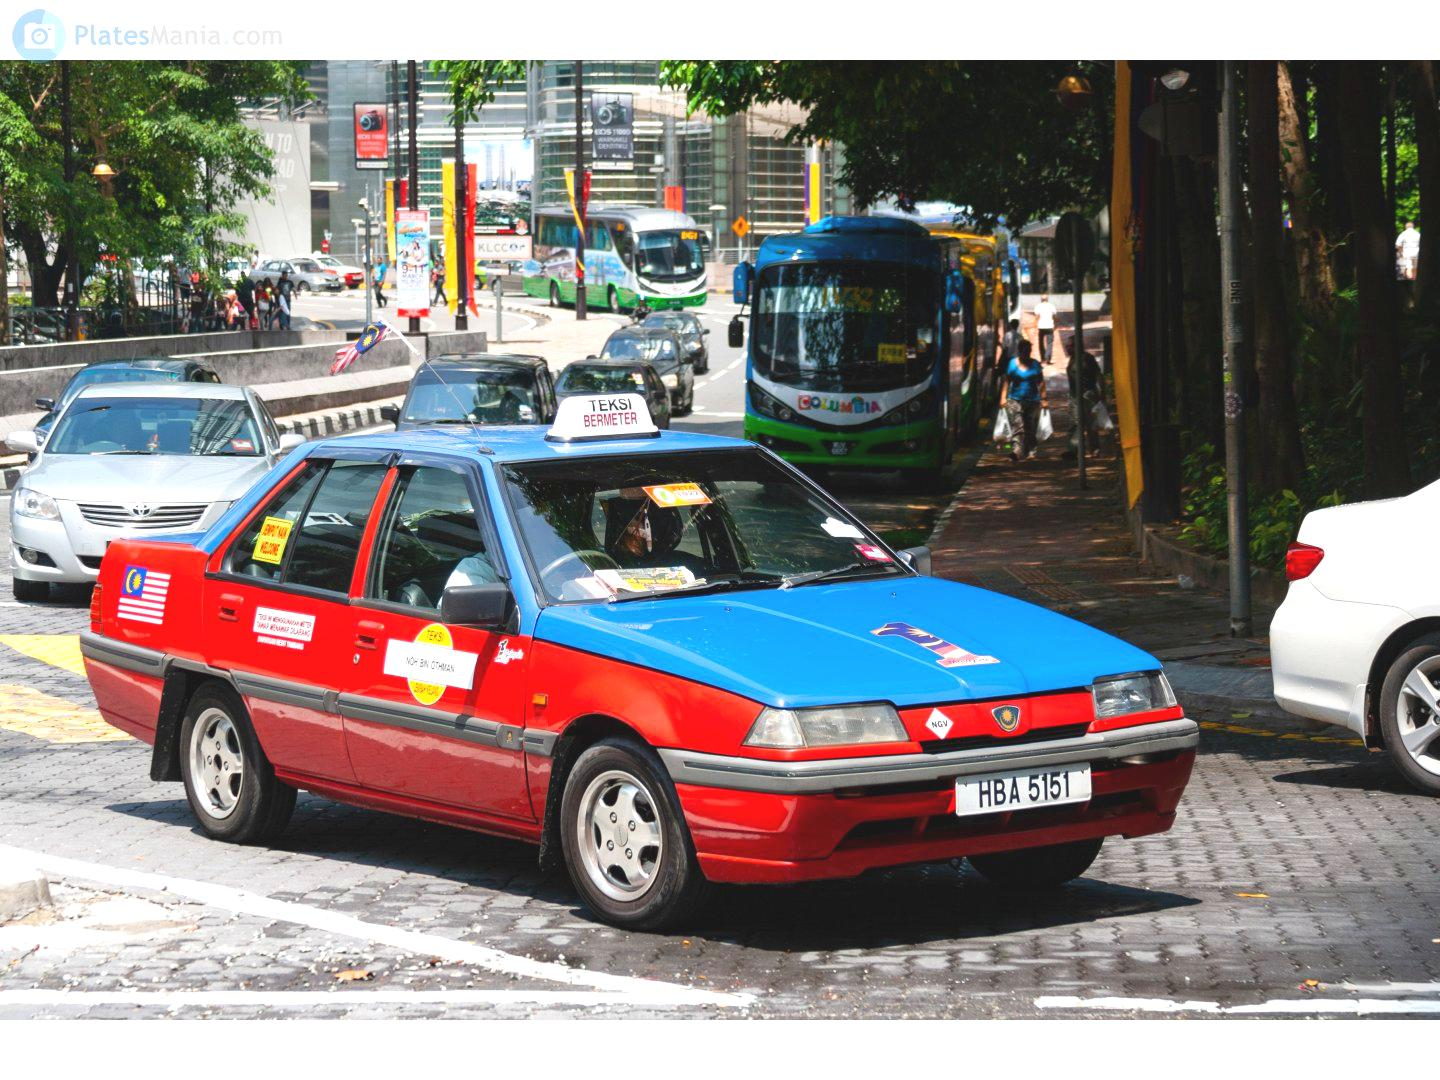License Plate: (959, 765, 1094, 817)
